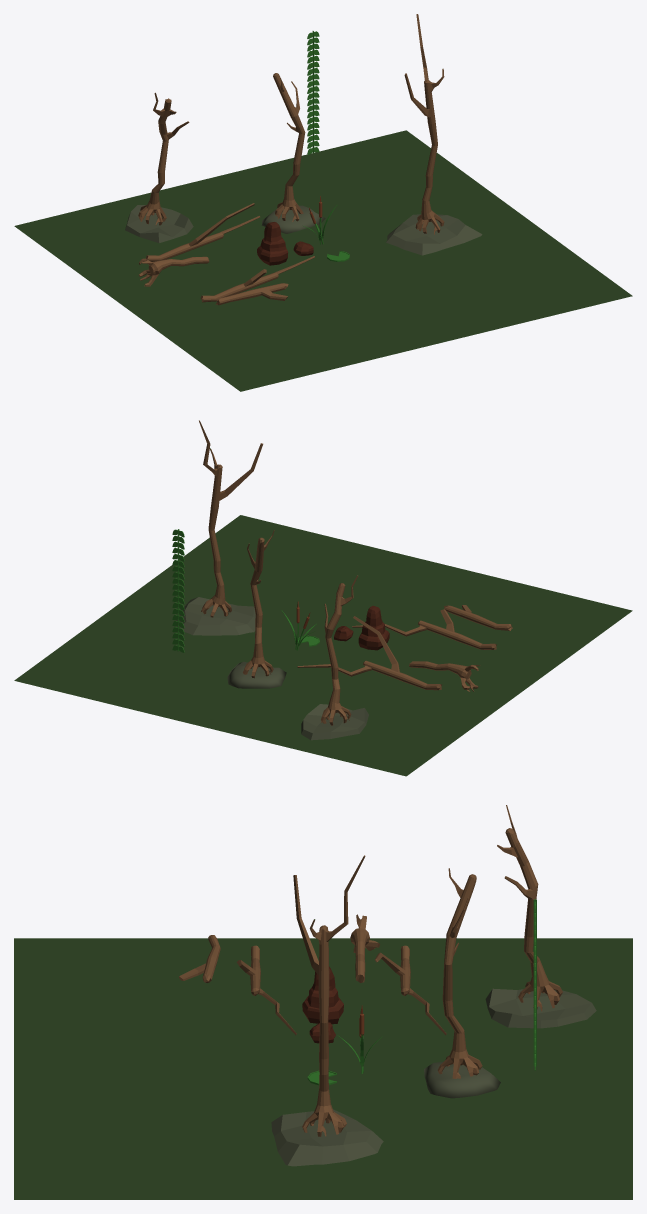
Rendered from Pantano.fbx.
3 renders of one model, top to bottom at view 1: azimuth 30°, elevation 25°; view 2: azimuth 150°, elevation 25°; view 3: azimuth 270°, elevation 25°, orthographic. The views are drawn at different scales.
Parts seen in each view (by area): view 1: Plane, Circle.003, Circle, Circle.002, Circle.005, Circle.001, Cube, Circle.008, Sphere, Circle.004, Circle.010, Circle.009 (+1 smaller); view 2: Plane, Circle.003, Circle, Circle.002, Circle.001, Circle.005, Cube, Circle.008, Circle.004, Circle.010, Sphere, Circle.009 (+1 smaller); view 3: Plane, Circle.003, Circle, Circle.002, Circle.005, Circle.001, Circle.004, Sphere, Circle.008, Circle.009, Circle.010, Circle.011 (+1 smaller).
Boxes of the visible parts, left/top/right/bottom form: Plane: left=14, top=130, right=632, bottom=391; Circle.003: left=386, top=214, right=482, bottom=255; Circle: left=404, top=14, right=444, bottom=234; Circle.002: left=125, top=205, right=193, bottom=243; Circle.005: left=273, top=73, right=305, bottom=221; Circle.001: left=138, top=92, right=189, bottom=225; Cube: left=307, top=31, right=319, bottom=154; Circle.008: left=146, top=203, right=259, bottom=261; Sphere: left=257, top=222, right=288, bottom=265; Circle.004: left=261, top=205, right=325, bottom=233; Circle.010: left=200, top=256, right=314, bottom=302; Circle.009: left=138, top=256, right=209, bottom=286; Plane: left=14, top=515, right=632, bottom=776; Circle.003: left=176, top=597, right=262, bottom=635; Circle: left=199, top=420, right=263, bottom=617; Circle.002: left=301, top=704, right=368, bottom=740; Circle.001: left=321, top=575, right=357, bottom=725; Circle.005: left=243, top=530, right=274, bottom=678; Cube: left=172, top=529, right=184, bottom=652; Circle.008: left=297, top=616, right=441, bottom=690; Circle.004: left=227, top=661, right=286, bottom=688; Circle.010: left=352, top=609, right=496, bottom=649; Sphere: left=358, top=605, right=389, bottom=650; Circle.009: left=409, top=661, right=480, bottom=691; Plane: left=14, top=938, right=632, bottom=1199; Circle.003: left=271, top=1109, right=383, bottom=1166; Circle: left=293, top=855, right=365, bottom=1136; Circle.002: left=485, top=988, right=596, bottom=1028; Circle.005: left=437, top=868, right=482, bottom=1078; Circle.001: left=497, top=805, right=562, bottom=1011; Circle.004: left=424, top=1061, right=500, bottom=1098; Sphere: left=302, top=966, right=343, bottom=1024; Circle.008: left=375, top=945, right=446, bottom=1035; Circle.009: left=350, top=914, right=380, bottom=982; Circle.010: left=236, top=945, right=296, bottom=1035; Circle.011: left=179, top=935, right=220, bottom=982.
Size of the model in its own units: 10785 by 5714 by 10785.
